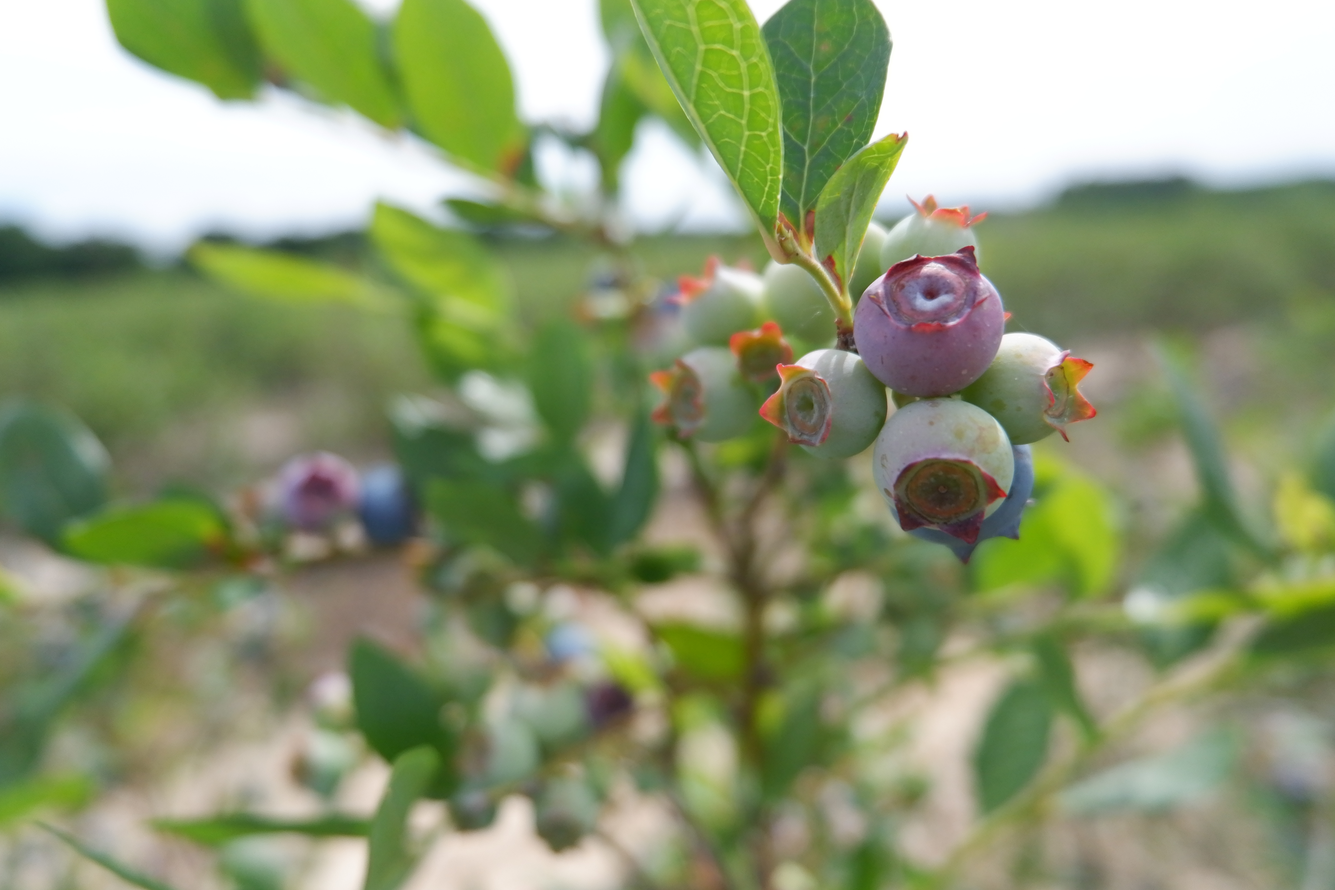Immature: (859, 255, 1002, 391), (873, 401, 1012, 527), (964, 334, 1091, 442), (771, 350, 888, 454), (653, 349, 759, 440), (880, 194, 988, 273), (678, 257, 762, 345), (763, 263, 836, 347), (731, 323, 794, 384), (847, 222, 888, 308)
Mature: (891, 444, 1034, 566)
